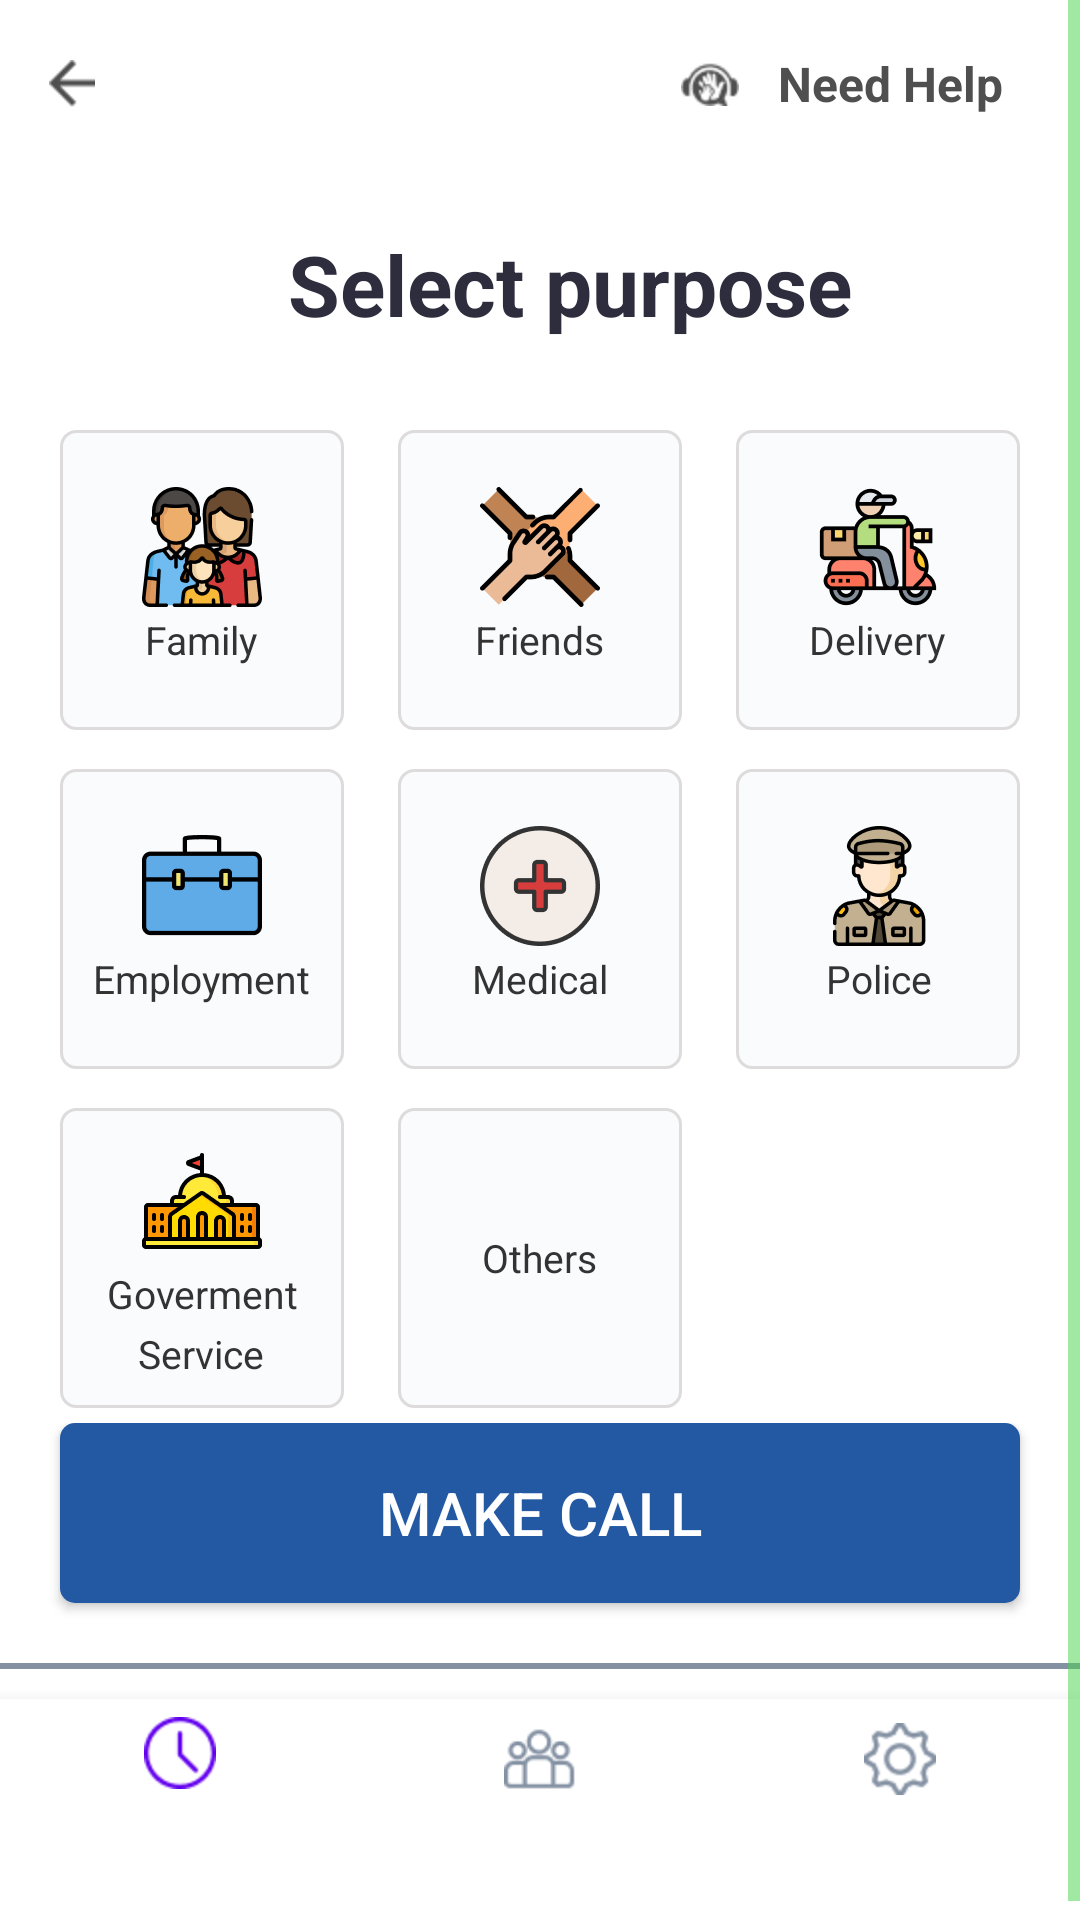

Icon bounding boxes for this 1080 x 1920 phone screenshot, format (x1, y1, x2, y2):
back: (49, 60, 95, 107)
scooter: (819, 488, 937, 606)
